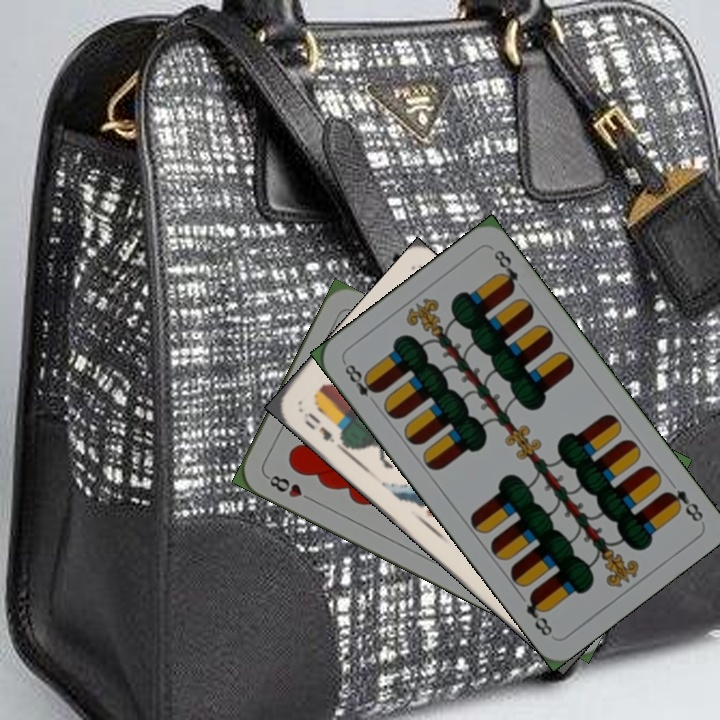E8: (340, 358, 382, 409), (660, 485, 706, 525)
EO: (299, 408, 346, 446)
H8: (262, 471, 317, 505)
